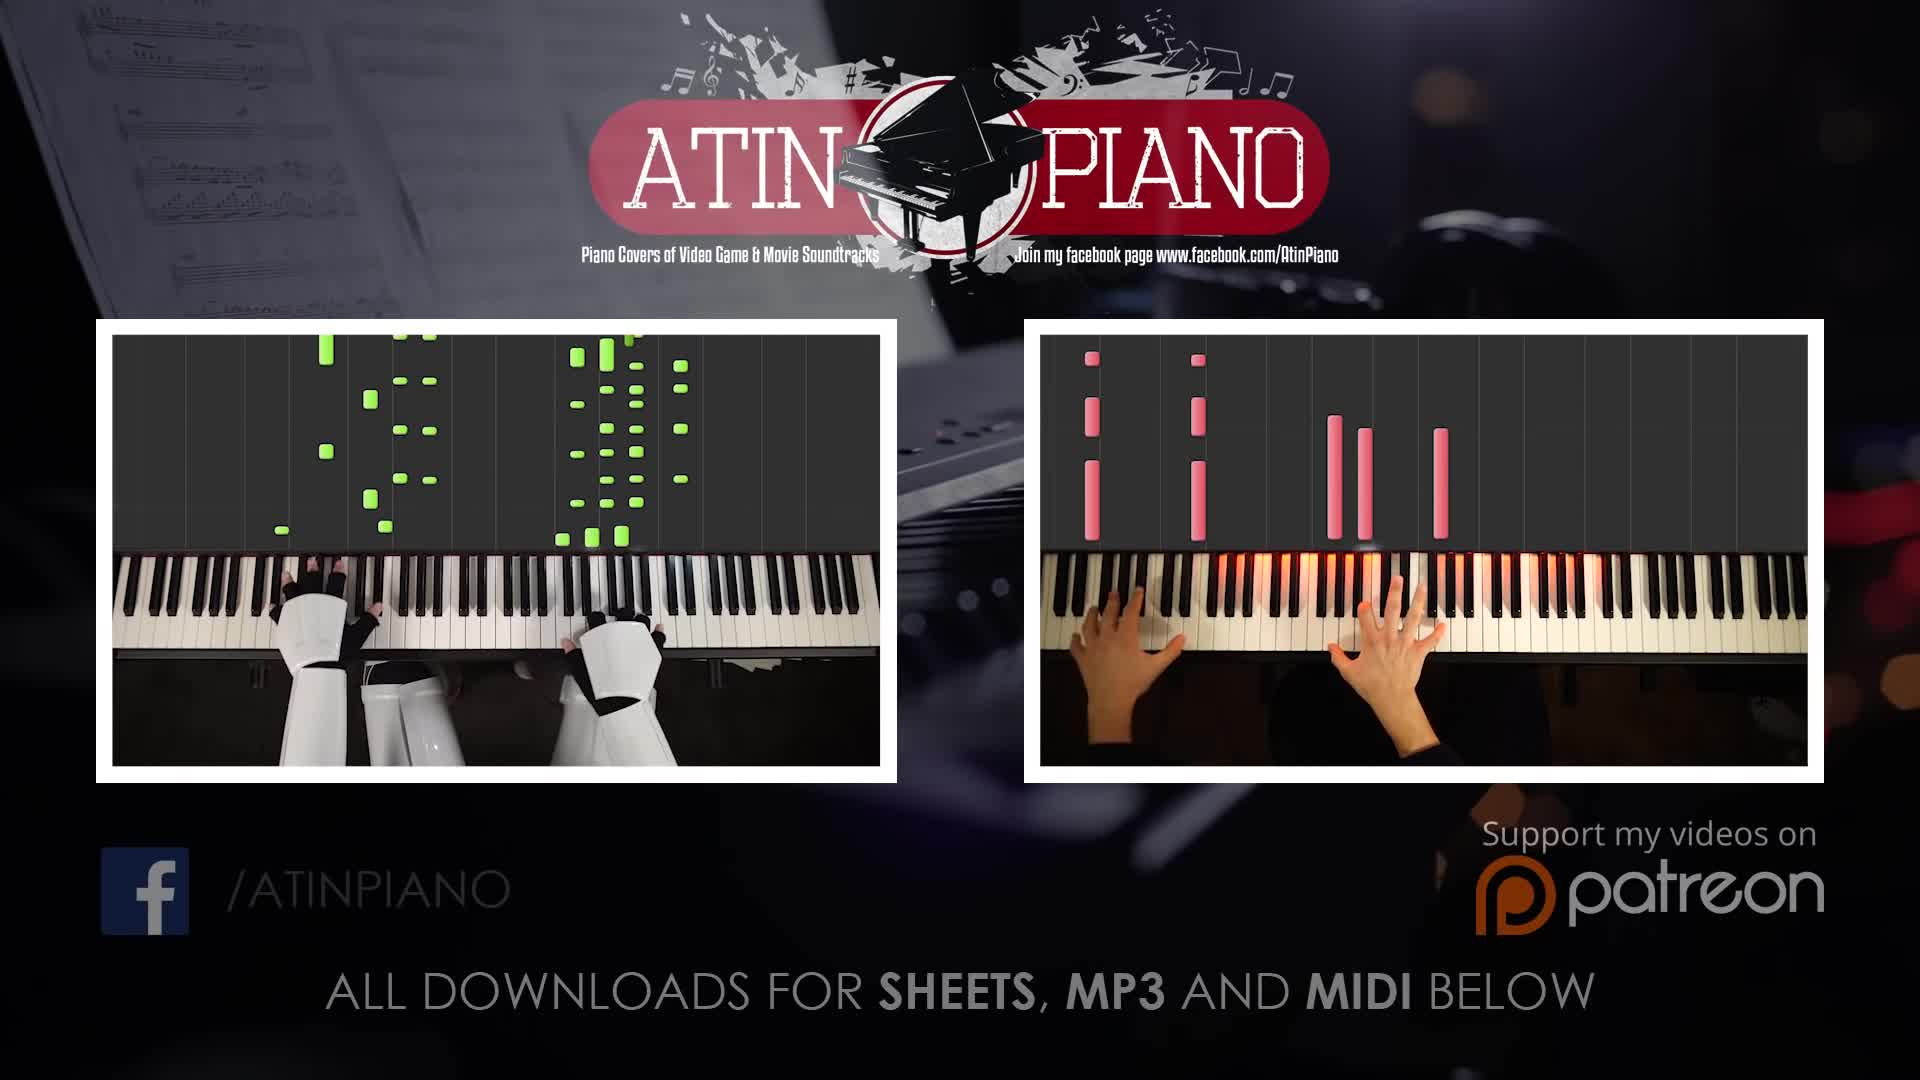left: (265, 554, 390, 679), (1069, 584, 1185, 716)
right: (1327, 574, 1447, 716), (554, 603, 671, 711)
